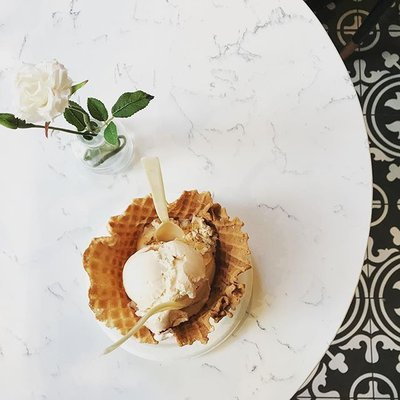curry: (0, 3, 398, 393)
sushi: (83, 190, 253, 354)
